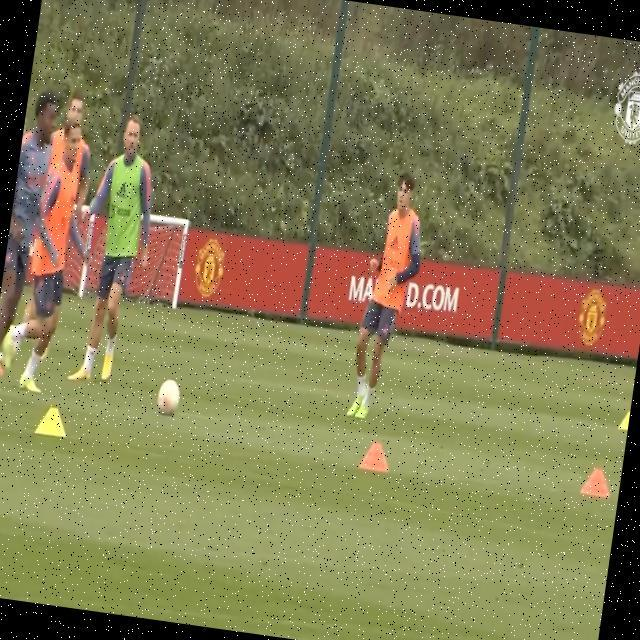Adidas: (116, 179, 132, 200), (388, 233, 403, 255)
